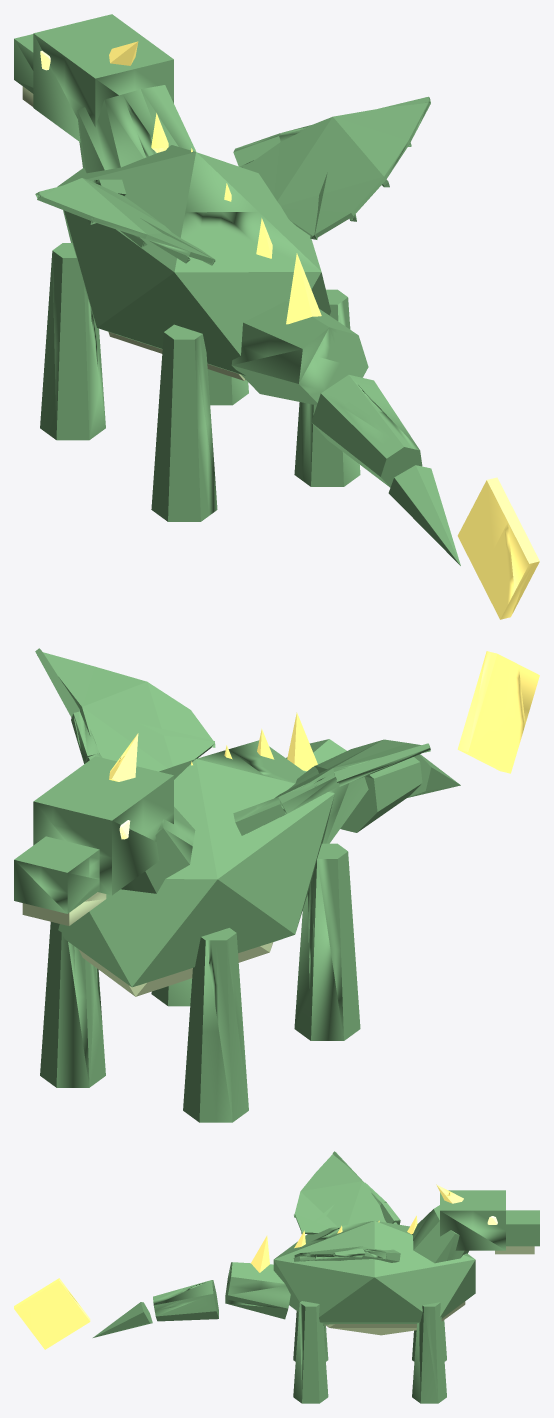
The model's file is dragon_hatchling.glb.
3 renders of one model, top to bottom at view 1: azimuth 30°, elevation 25°; view 2: azimuth 150°, elevation 25°; view 3: azimuth 270°, elevation 25°, orthographic. The views are drawn at different scales.
Visible parts, largest first — view 1: DragonBody; view 2: DragonBody; view 3: DragonBody.
Boxes of the visible parts, x1,y1,x2,y2 form: DragonBody: (14, 14, 539, 619); DragonBody: (14, 648, 539, 1122); DragonBody: (14, 1151, 539, 1403).
Size of the model in its own units: 1.59 by 1.4 by 3.44.
